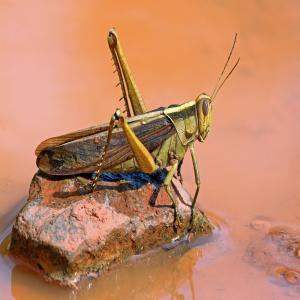locust: (34, 63, 233, 184)
